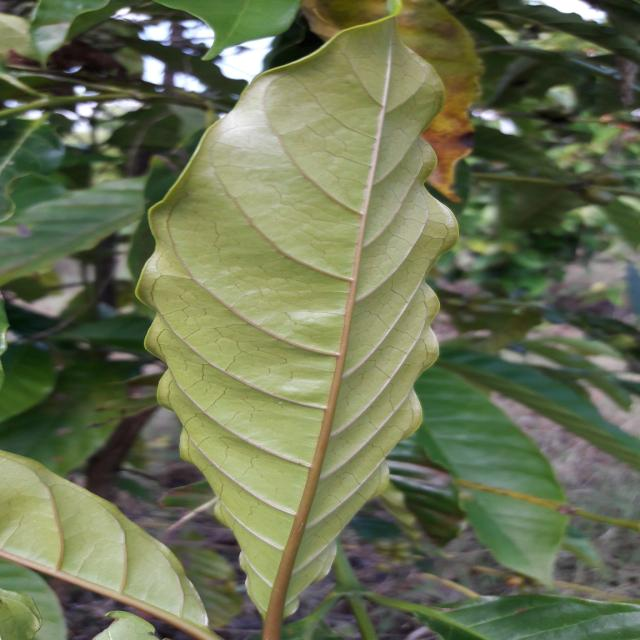Sanas: (133, 19, 471, 640)
